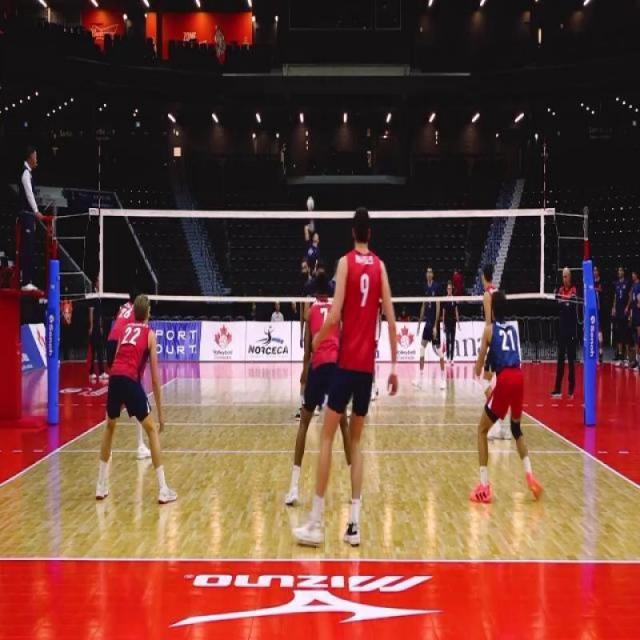volleyball: (306, 196, 315, 212)
